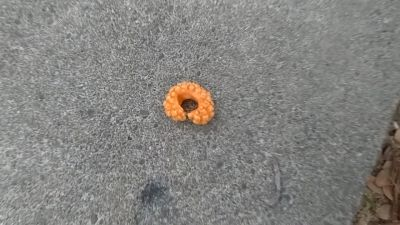eggs: (162, 80, 218, 125)
